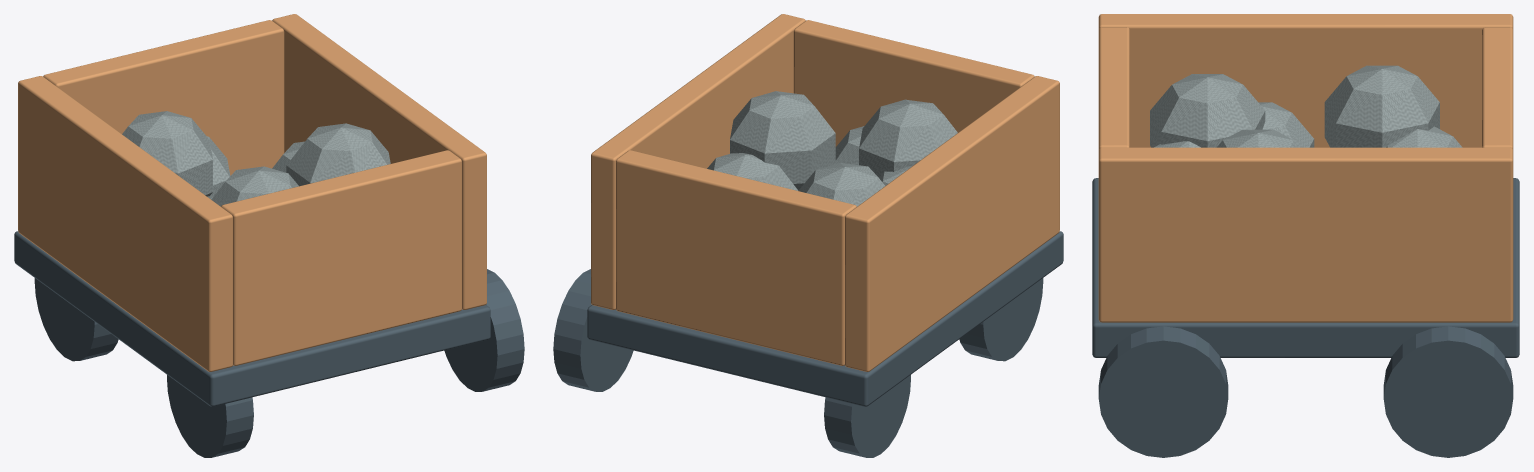
The model's file is dwarven-runeforge-dungeon-dwarven-runeforge-dungeon-or-8cc71d49__28604.glb.
3 views of the same model, side by side, from view 1: azimuth 30°, elevation 25°; view 2: azimuth 150°, elevation 25°; view 3: azimuth 270°, elevation 25° (orthographic). The views are drawn at different scales.
Visible parts, largest first — view 1: dwarven-runeforge-dungeon-ore-trolley; view 2: dwarven-runeforge-dungeon-ore-trolley; view 3: dwarven-runeforge-dungeon-ore-trolley.
Boxes of the visible parts, x1,y1,x2,y2 form: dwarven-runeforge-dungeon-ore-trolley: [14, 14, 524, 457]; dwarven-runeforge-dungeon-ore-trolley: [553, 14, 1063, 457]; dwarven-runeforge-dungeon-ore-trolley: [1092, 14, 1519, 457].
Bounding box in the file's own units: 1.52 × 1.19 × 1.65.
Materials: 3 (1 with a texture image).
